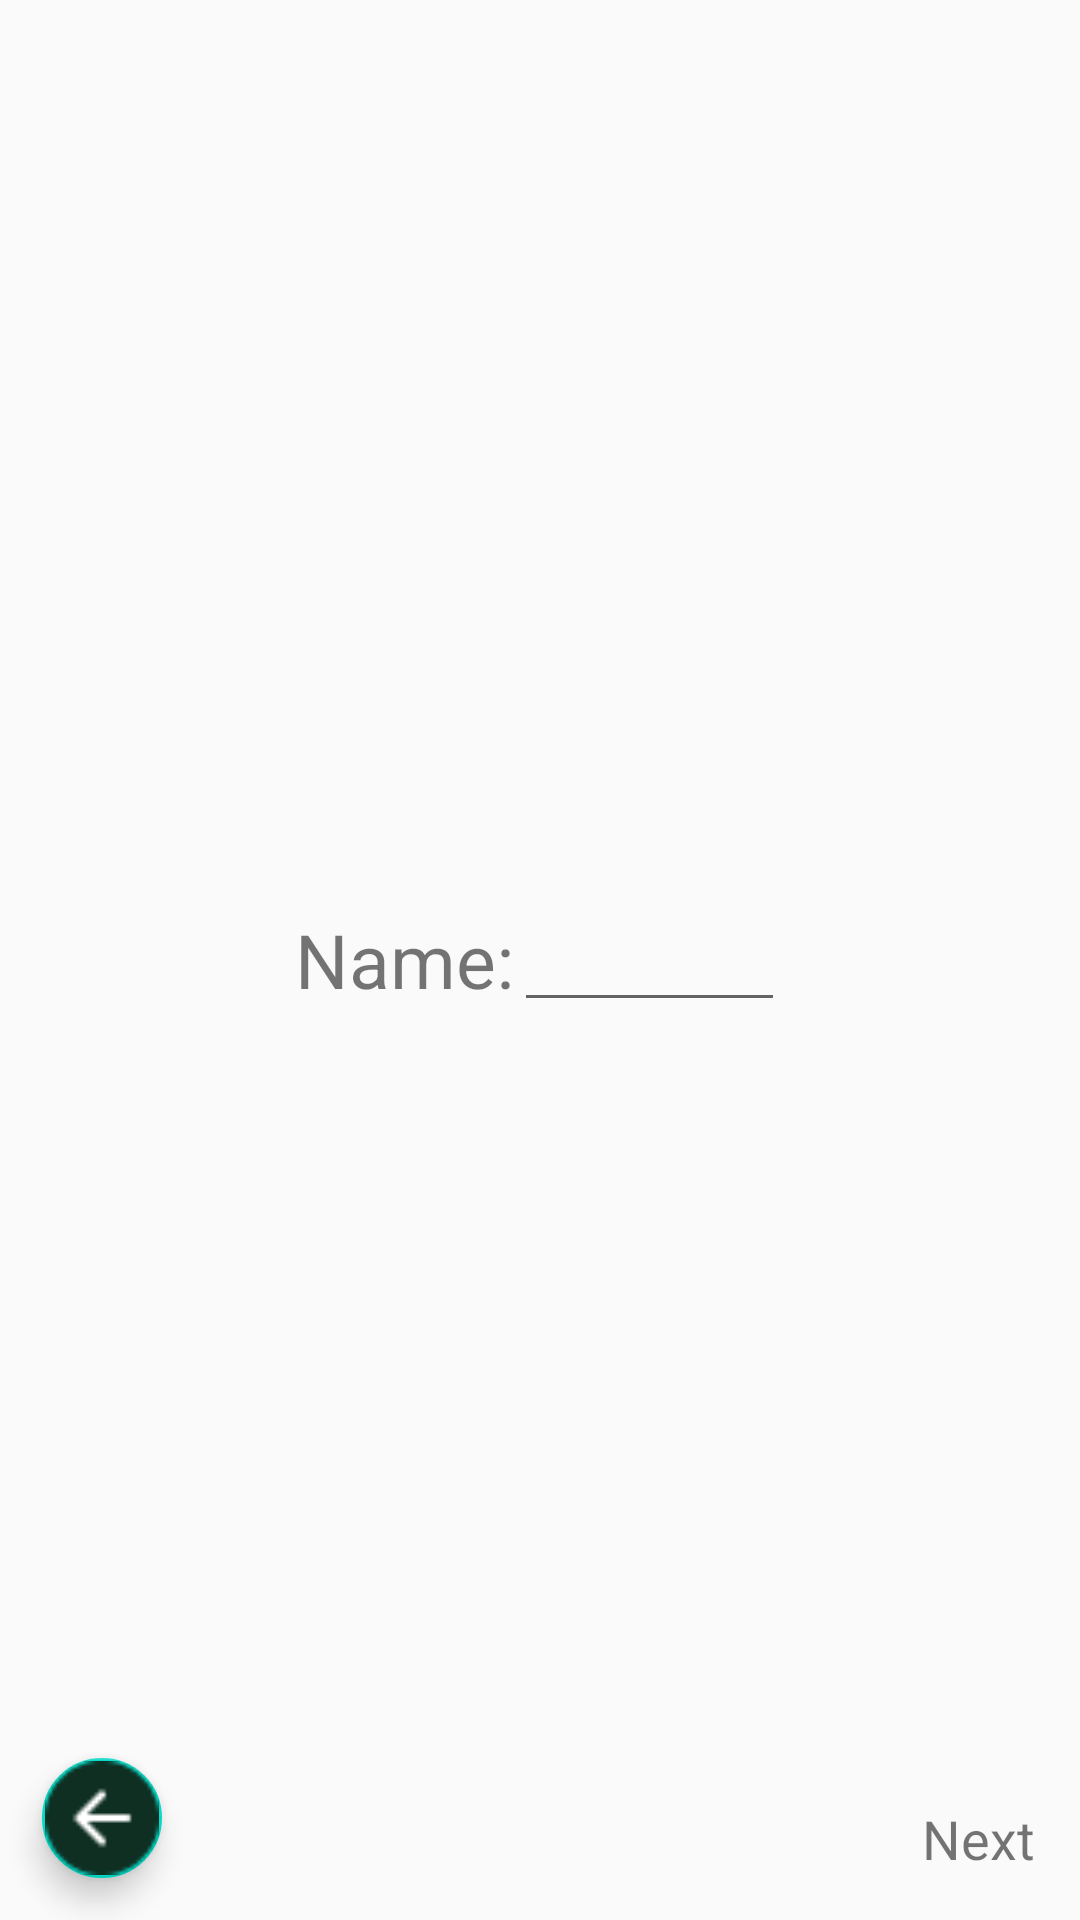

Named icons in this screenshot (1080*1920) and their centers, point (x, y):
back: point (101, 1824)
